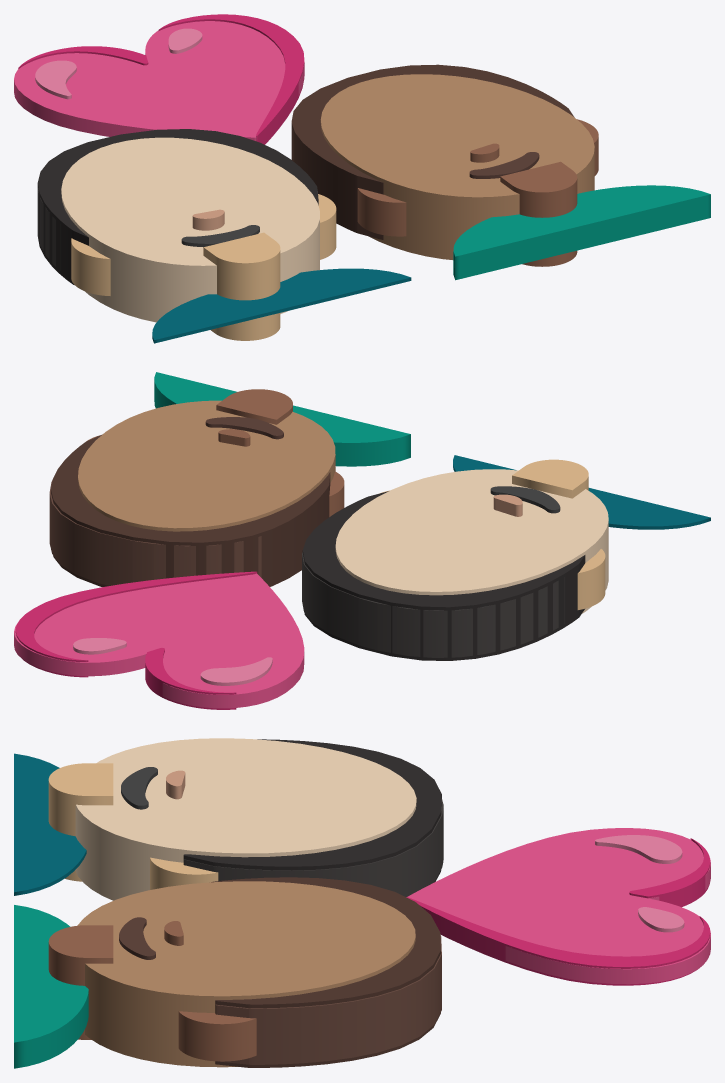
The model's file is emoji_u1f468_1f3fb_200d_2764_200d_1f468_1f3fd.glb.
The picture shows the model from 3 angles, top to bottom: view 1: azimuth 30°, elevation 25°; view 2: azimuth 150°, elevation 25°; view 3: azimuth 270°, elevation 25°; orthographic projection. The views are drawn at different scales.
Visible parts, largest first — view 1: emoji_u1f468_1f3fb_200d_2764_200d_1f468_1f3fd; view 2: emoji_u1f468_1f3fb_200d_2764_200d_1f468_1f3fd; view 3: emoji_u1f468_1f3fb_200d_2764_200d_1f468_1f3fd.
Part boxes in pixels (bbox=[...]): emoji_u1f468_1f3fb_200d_2764_200d_1f468_1f3fd: bbox=[14, 14, 710, 343]; emoji_u1f468_1f3fb_200d_2764_200d_1f468_1f3fd: bbox=[14, 372, 710, 709]; emoji_u1f468_1f3fb_200d_2764_200d_1f468_1f3fd: bbox=[14, 738, 710, 1068].
Bounding box in the file's own units: 0.0345 × 0.005 × 0.0338.
